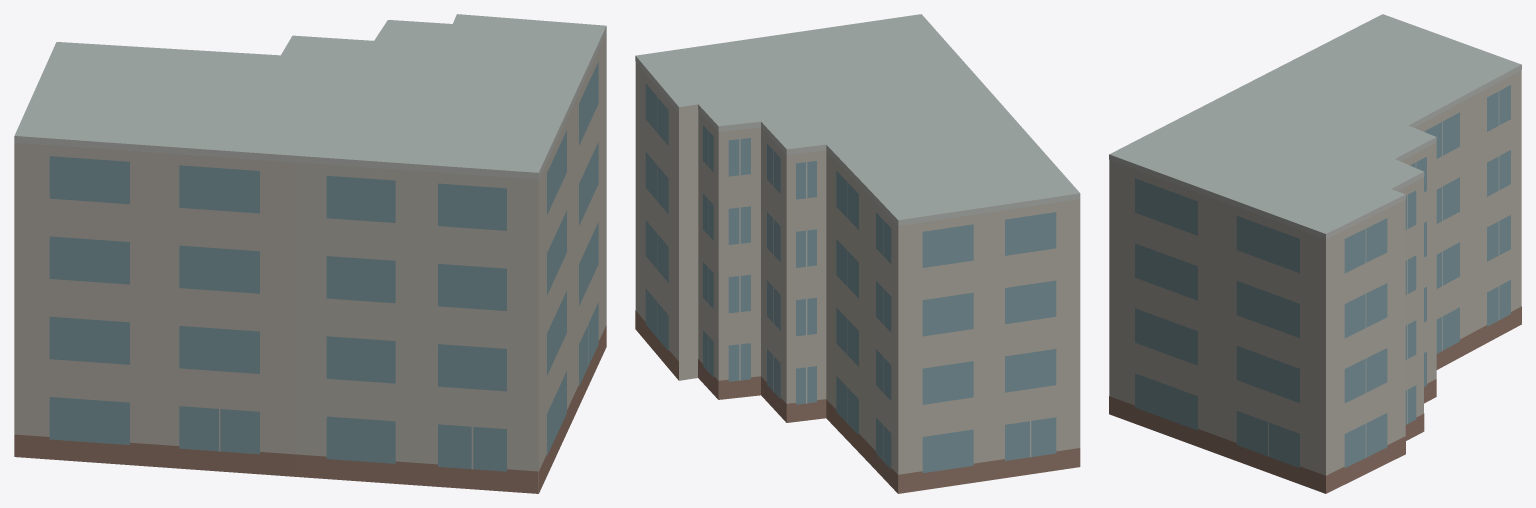
Rendered from survey-upis-32974778.glb.
The picture shows the model from 3 angles, left to right: view 1: azimuth 30°, elevation 25°; view 2: azimuth 150°, elevation 25°; view 3: azimuth 270°, elevation 25°; orthographic projection. The views are drawn at different scales.
Parts seen in each view (by area): view 1: survey-upis-32974778.tmp; view 2: survey-upis-32974778.tmp; view 3: survey-upis-32974778.tmp.
Part boxes in pixels (bbox=[...]): survey-upis-32974778.tmp: bbox=[14, 14, 606, 493]; survey-upis-32974778.tmp: bbox=[635, 14, 1080, 493]; survey-upis-32974778.tmp: bbox=[1109, 14, 1521, 493].
Bounding box in the file's own units: 21.25 × 11.7 × 16.84.
